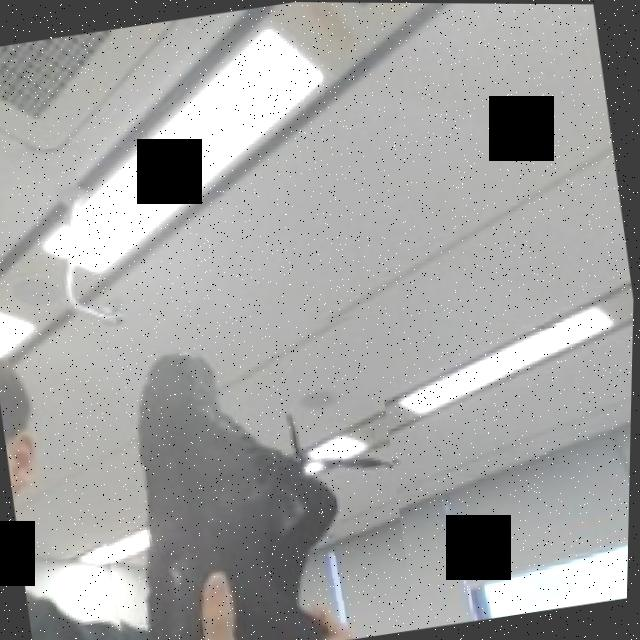shoe: (68, 304, 424, 640)
